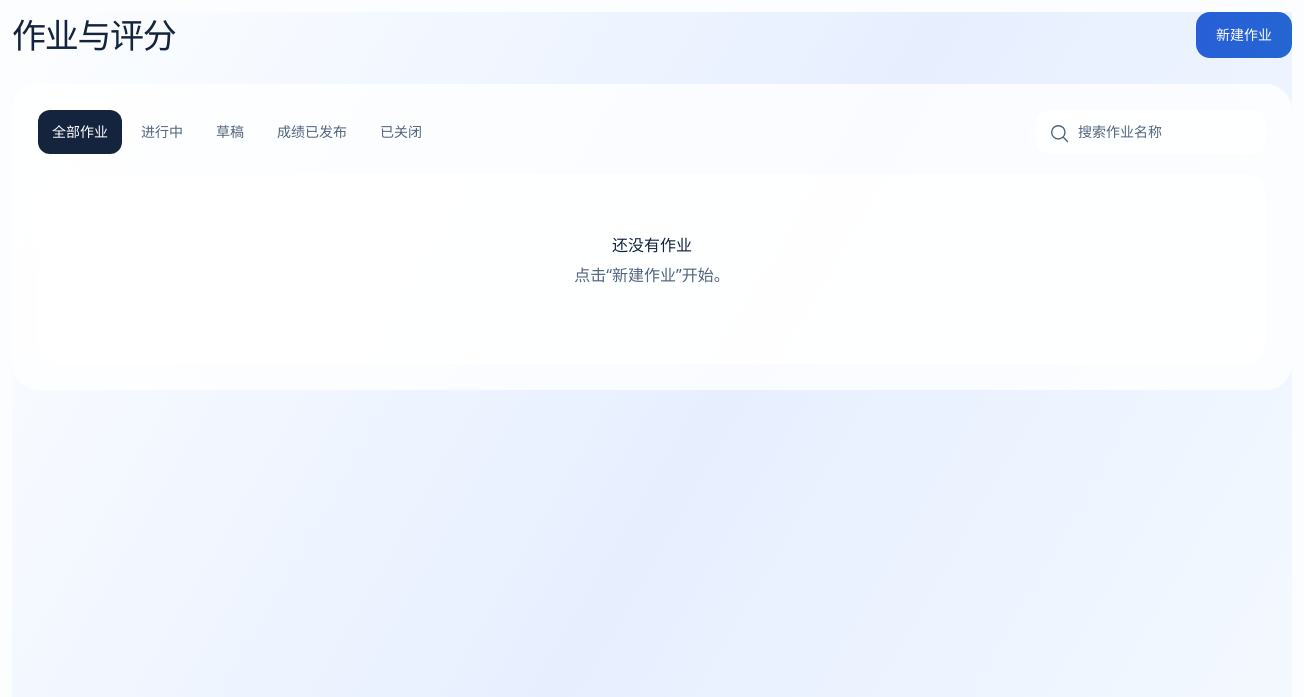
Test: PROOF 可以选择三个班，并可切回期末作业的两个班限制
The width and height of the screenshot is (1304, 697).
Click the button "新建作业" at (1244, 35), box 1196,12 -> 1292,58
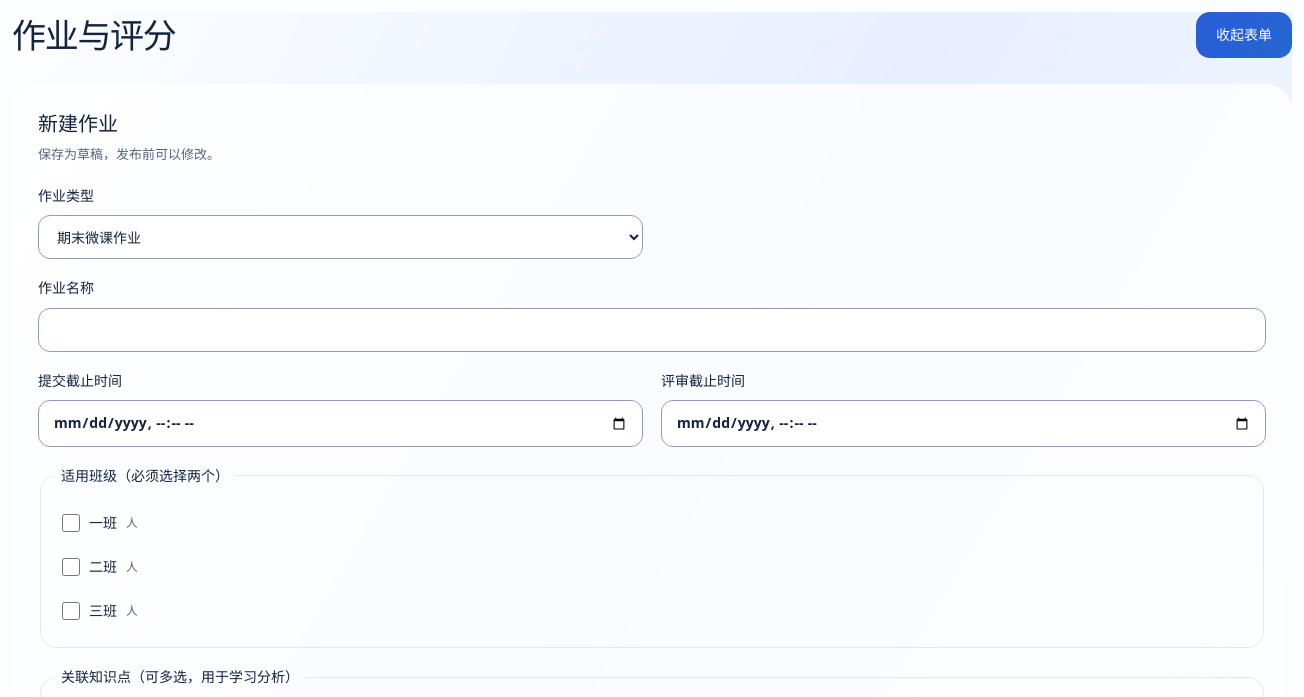
Select "证明题（在线作答）" in the dropdown named "作业类型" at (340, 237), box 38,215 -> 643,259
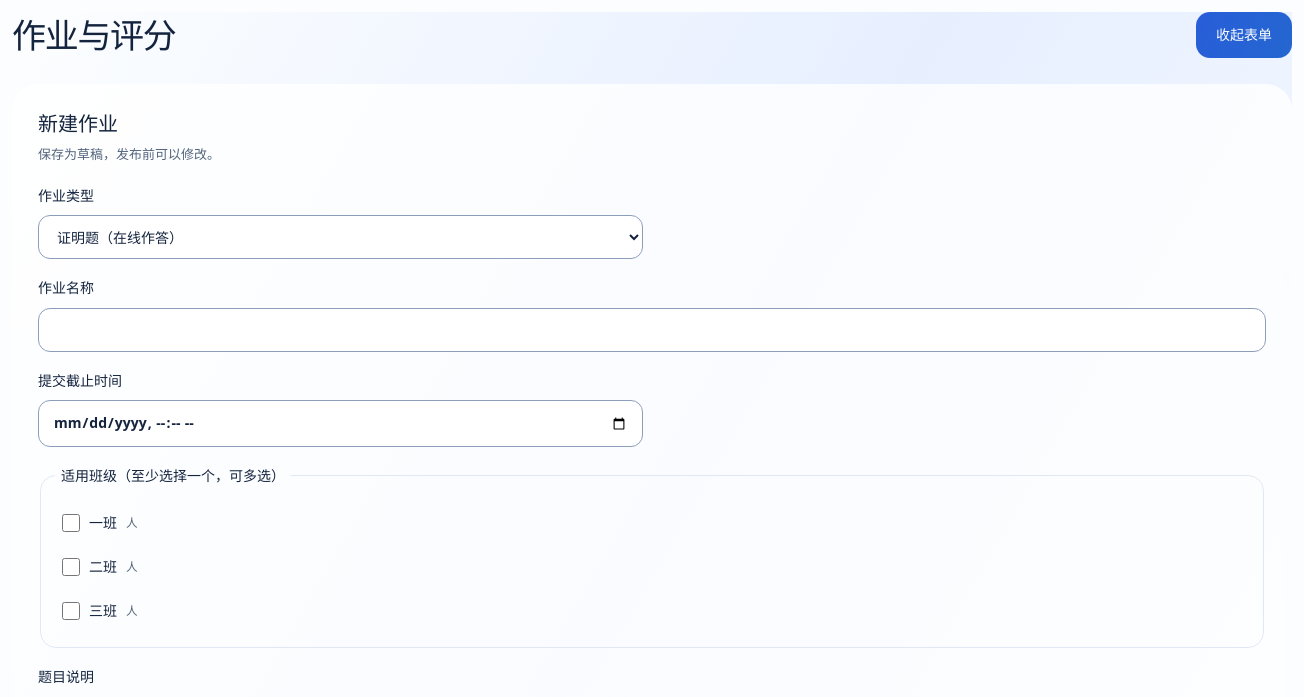
expect the checkbox labelled "一班 人" is enabled: met
Click the checkbox labelled "一班 人" at (71, 523), box 62,514 -> 80,532
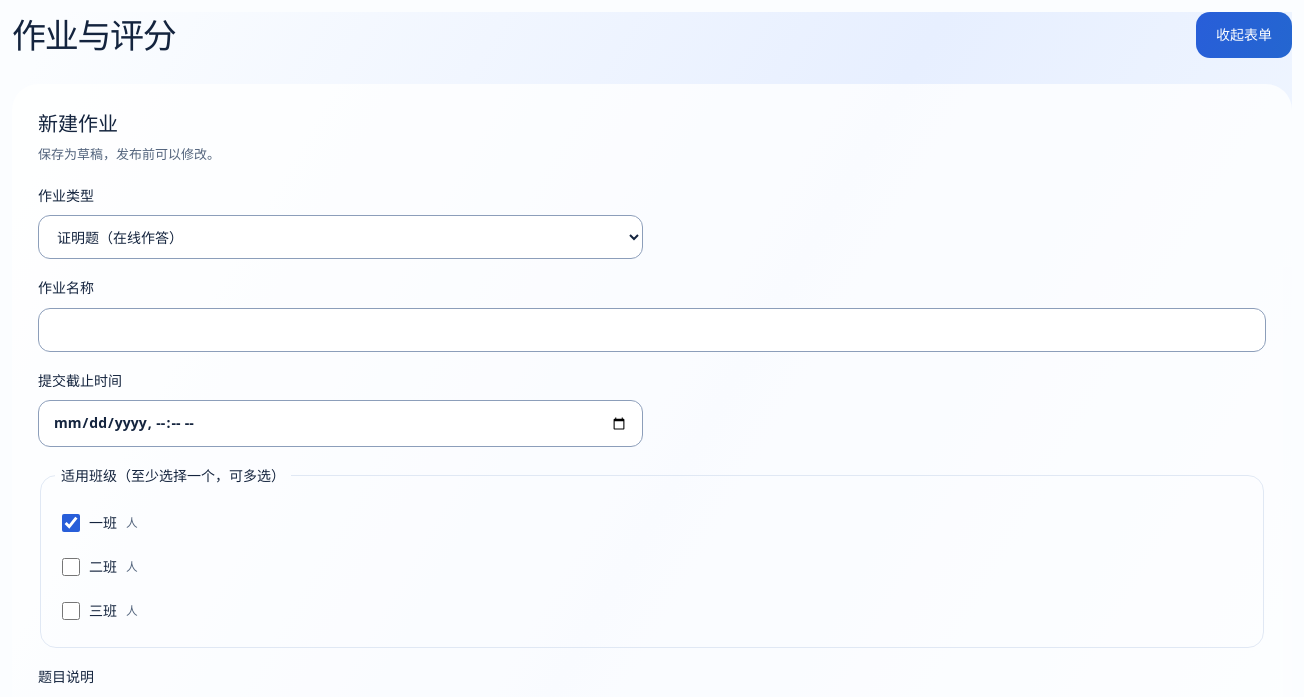
expect the checkbox labelled "二班 人" is enabled: met
Click the checkbox labelled "二班 人" at (71, 567), box 62,558 -> 80,576
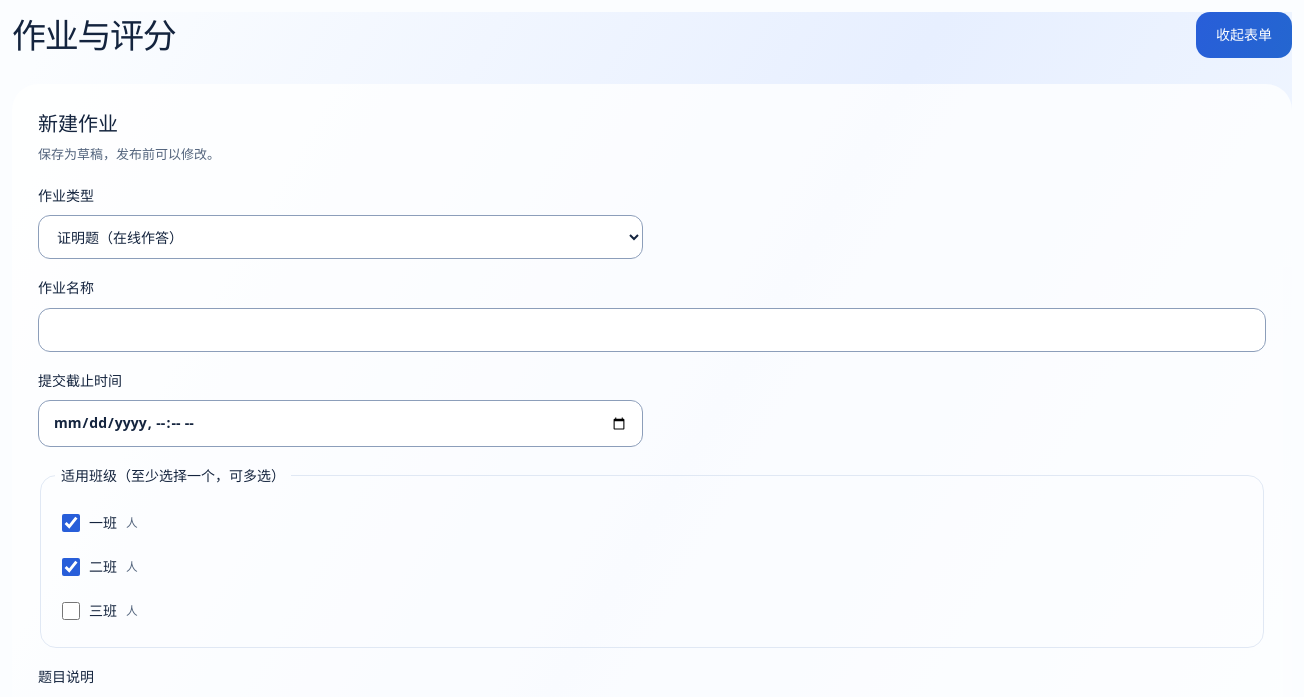
expect the checkbox labelled "三班 人" is enabled: met
Click the checkbox labelled "三班 人" at (71, 611), box 62,602 -> 80,620
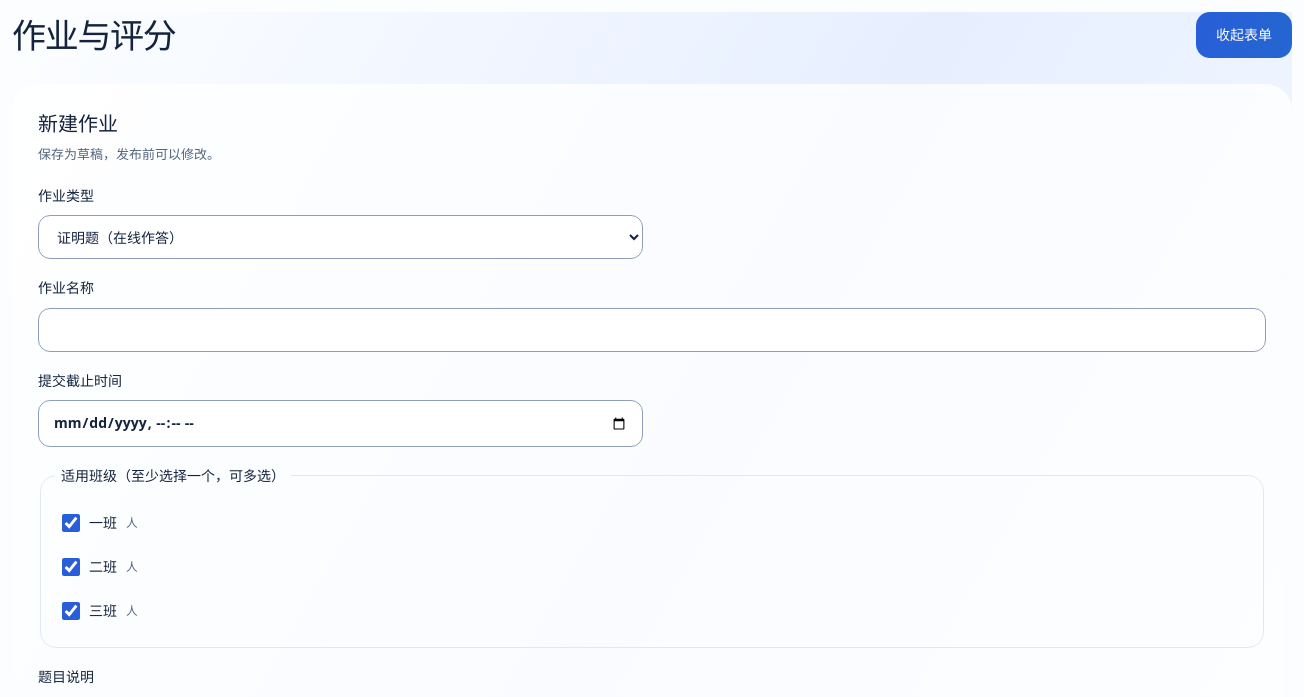
Select "期末微课作业" in the dropdown named "作业类型" at (340, 237), box 38,215 -> 643,259
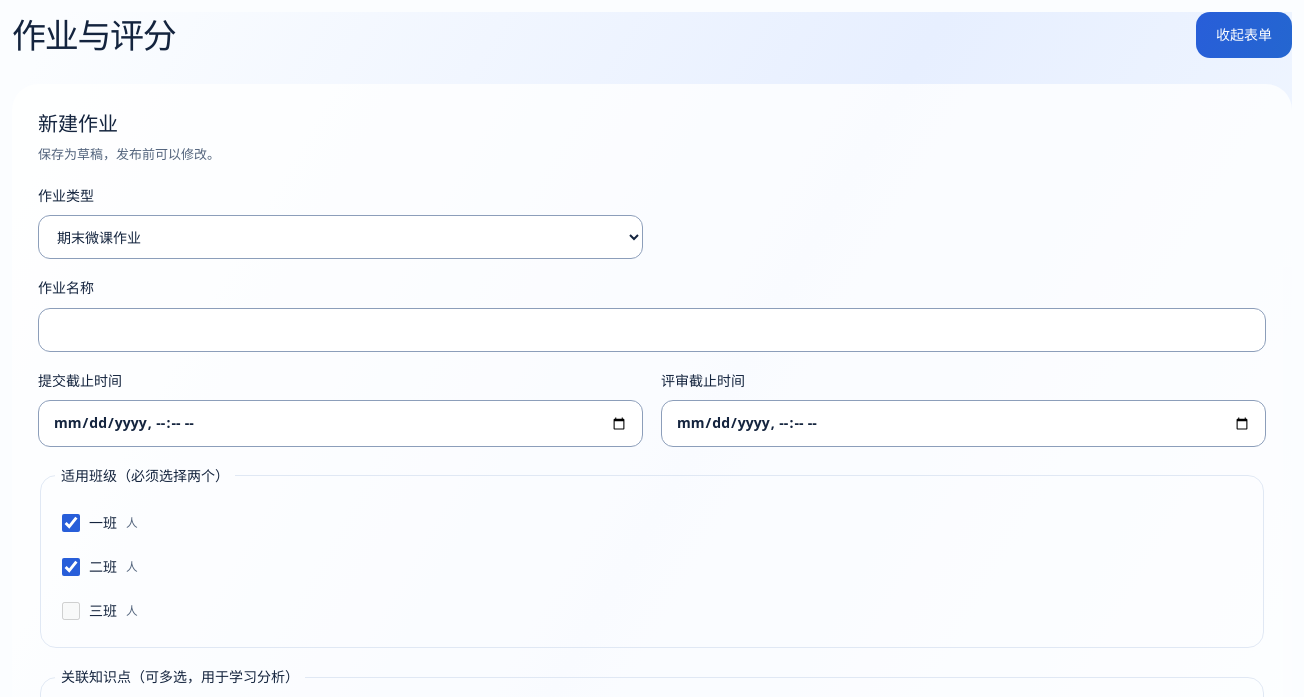
expect the checkbox labelled "三班 人" is disabled: met, box 62,602 -> 80,620
